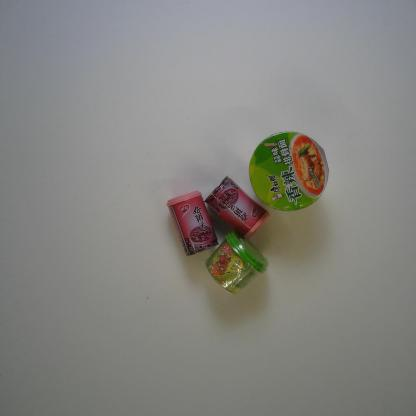Canned Food: (203, 175, 270, 240), (166, 190, 219, 257)
Instant Drink: (205, 231, 269, 294)
Instant Noodles: (248, 131, 329, 212)
